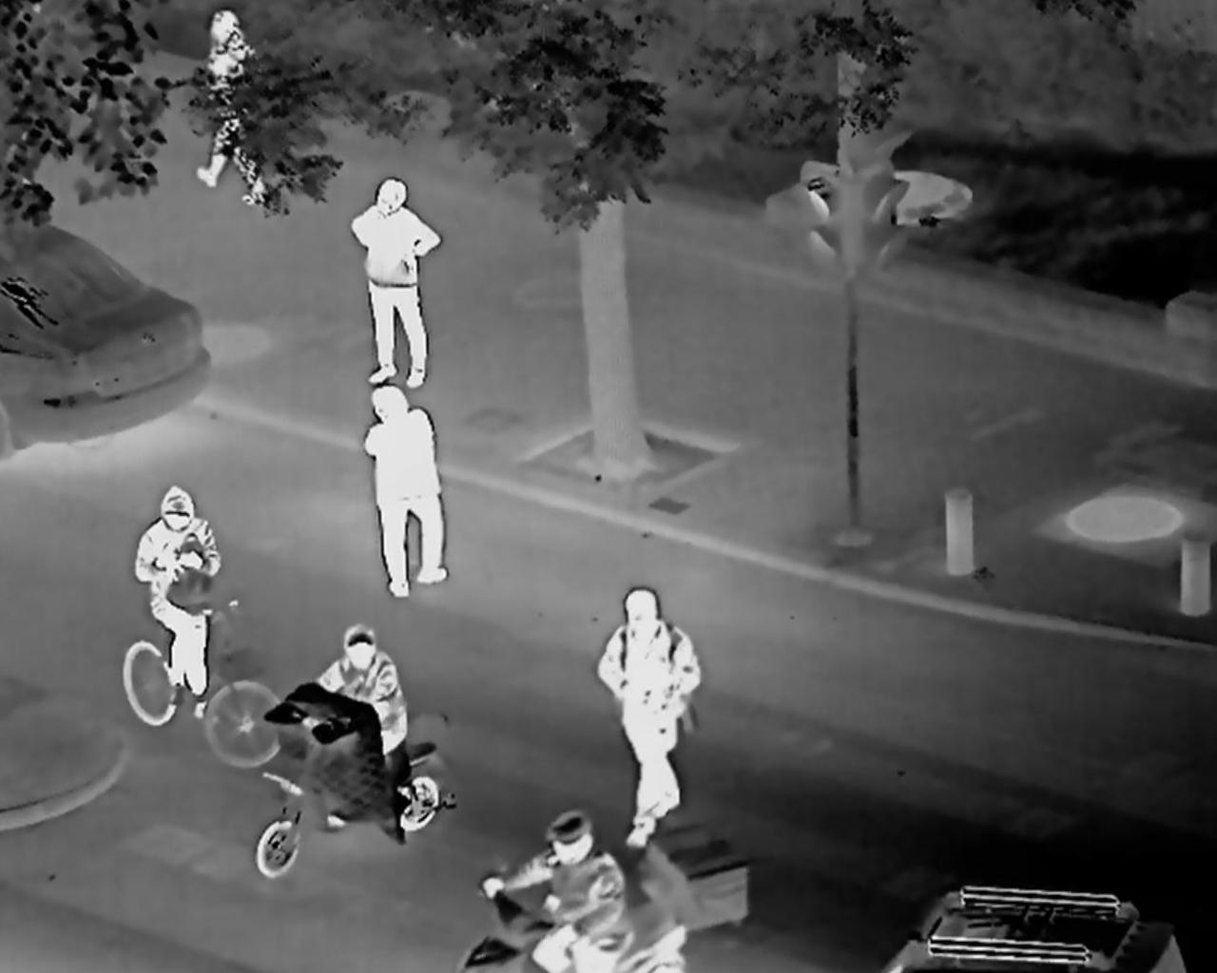person: (583, 579, 700, 822), (354, 382, 461, 595), (126, 486, 231, 696), (495, 821, 623, 973), (339, 171, 424, 379), (312, 633, 416, 773), (193, 2, 260, 175)
